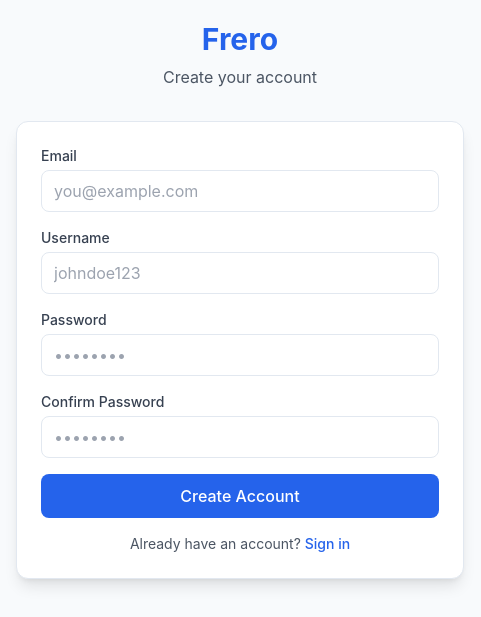
Test case: RegisterPage › shows email validation error for invalid email
Type "notanemail" into the field labelled "Email" at (240, 191), box [41,170,439,212]
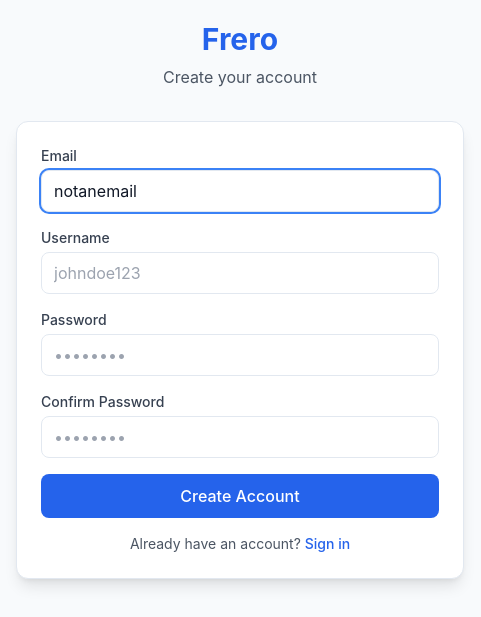
Type "validuser" into the field labelled "Username" at (240, 273), box [41,252,439,294]
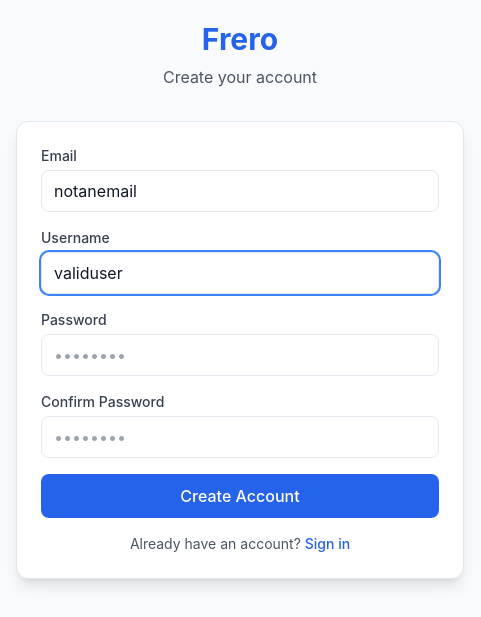
Type "P@ssw0rd!" into the password field labelled "Password" at (240, 355), box [41,334,439,376]
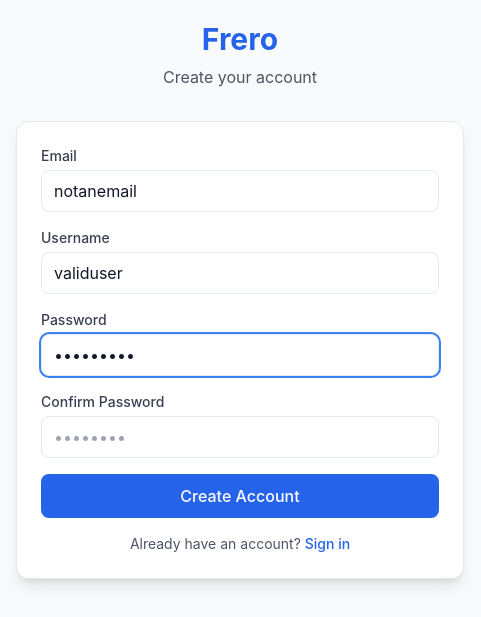
Type "P@ssw0rd!" into the password field labelled "Confirm Password" at (240, 437), box [41,416,439,458]
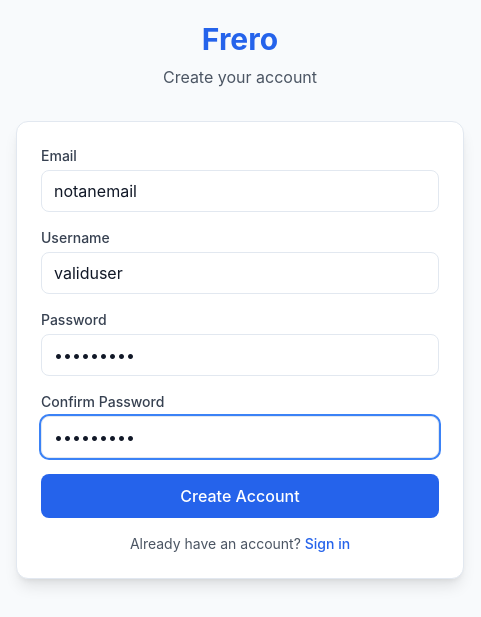
Click the button "Create Account" at (240, 496), box [41,474,439,518]
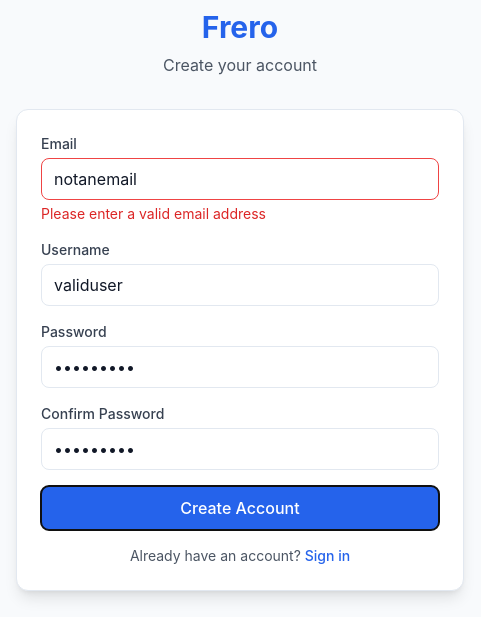
Expected: the text "Please enter a valid email address" is shown, [41,205,266,222]
